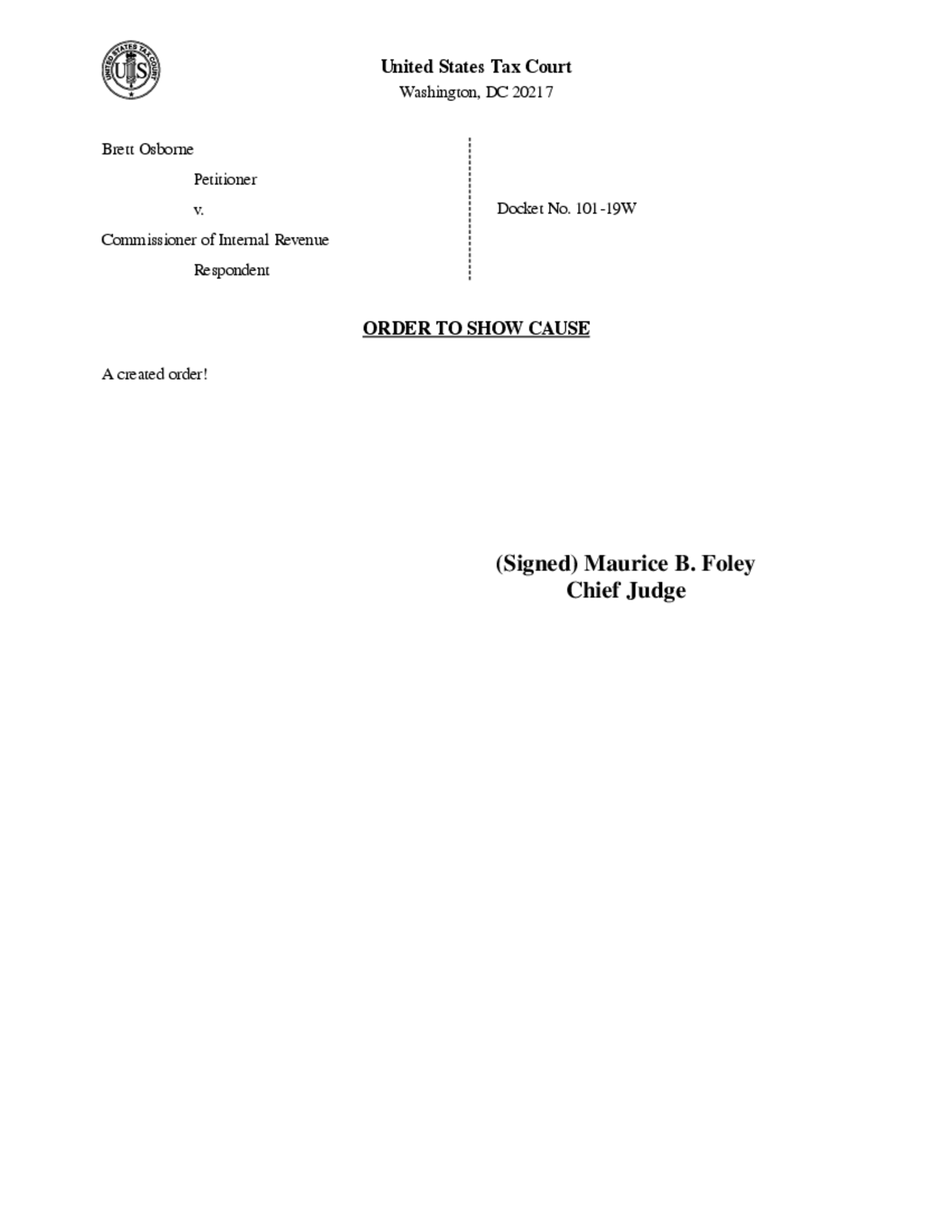signature: (496, 554, 755, 603)
